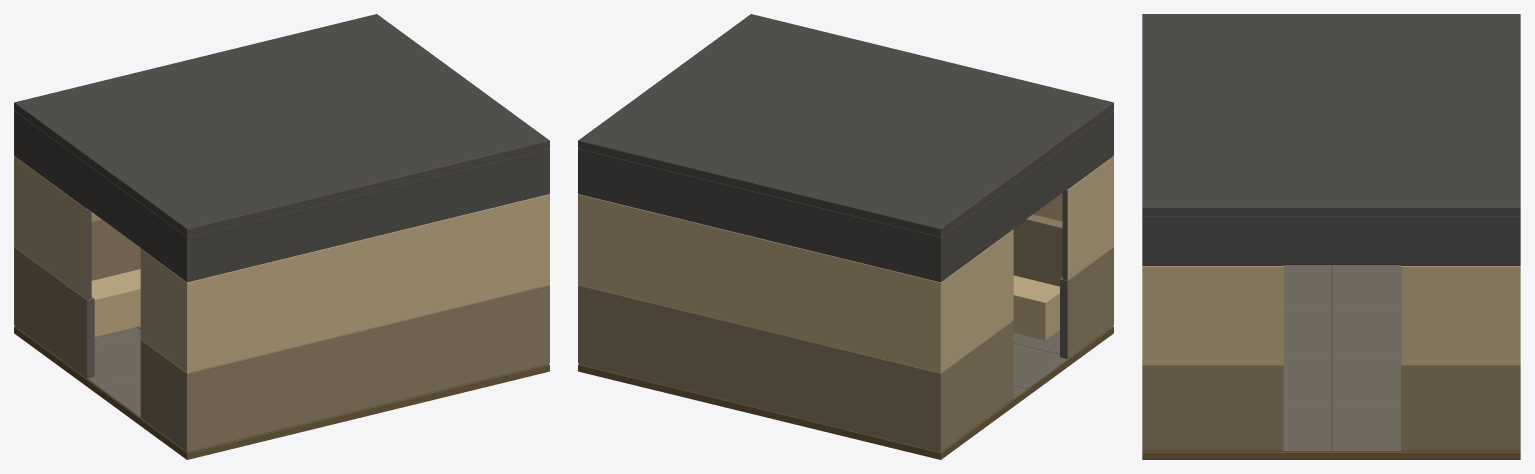
Rendered from gen-bunks.glb.
3 renders of one model, left to right at view 1: azimuth 30°, elevation 25°; view 2: azimuth 150°, elevation 25°; view 3: azimuth 270°, elevation 25°, orthographic. The views are drawn at different scales.
Visible parts, largest first — view 1: THE BUNKS; view 2: THE BUNKS; view 3: THE BUNKS.
Part boxes in pixels (left/top/right/bottom): THE BUNKS: left=14, top=14, right=549, bottom=459; THE BUNKS: left=578, top=14, right=1113, bottom=459; THE BUNKS: left=1142, top=14, right=1520, bottom=459.
Bounding box in the file's own units: 4.6 × 2.8 × 3.8.
